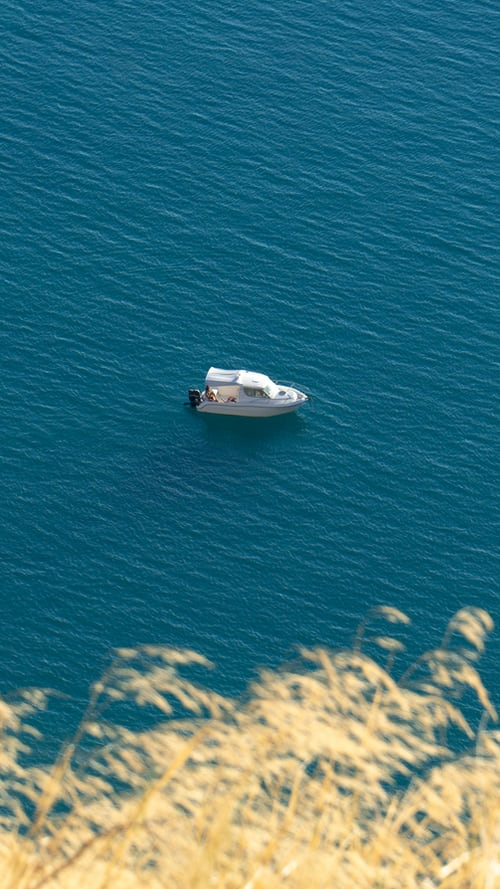yacht: (139, 343, 331, 439)
